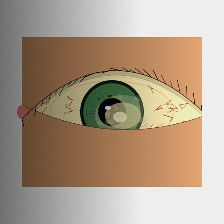corneal_ulcer: (94, 92, 152, 139)
